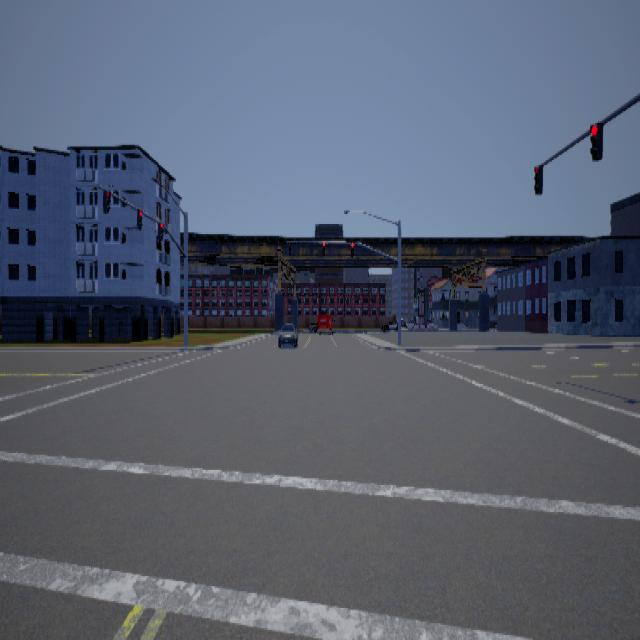red_light: (589, 120, 602, 160), (533, 163, 542, 194), (102, 189, 110, 212), (136, 207, 142, 229), (157, 221, 163, 239), (350, 241, 353, 256), (321, 241, 324, 254), (288, 241, 290, 254)
vehicle: (277, 322, 297, 347), (316, 312, 335, 335)
